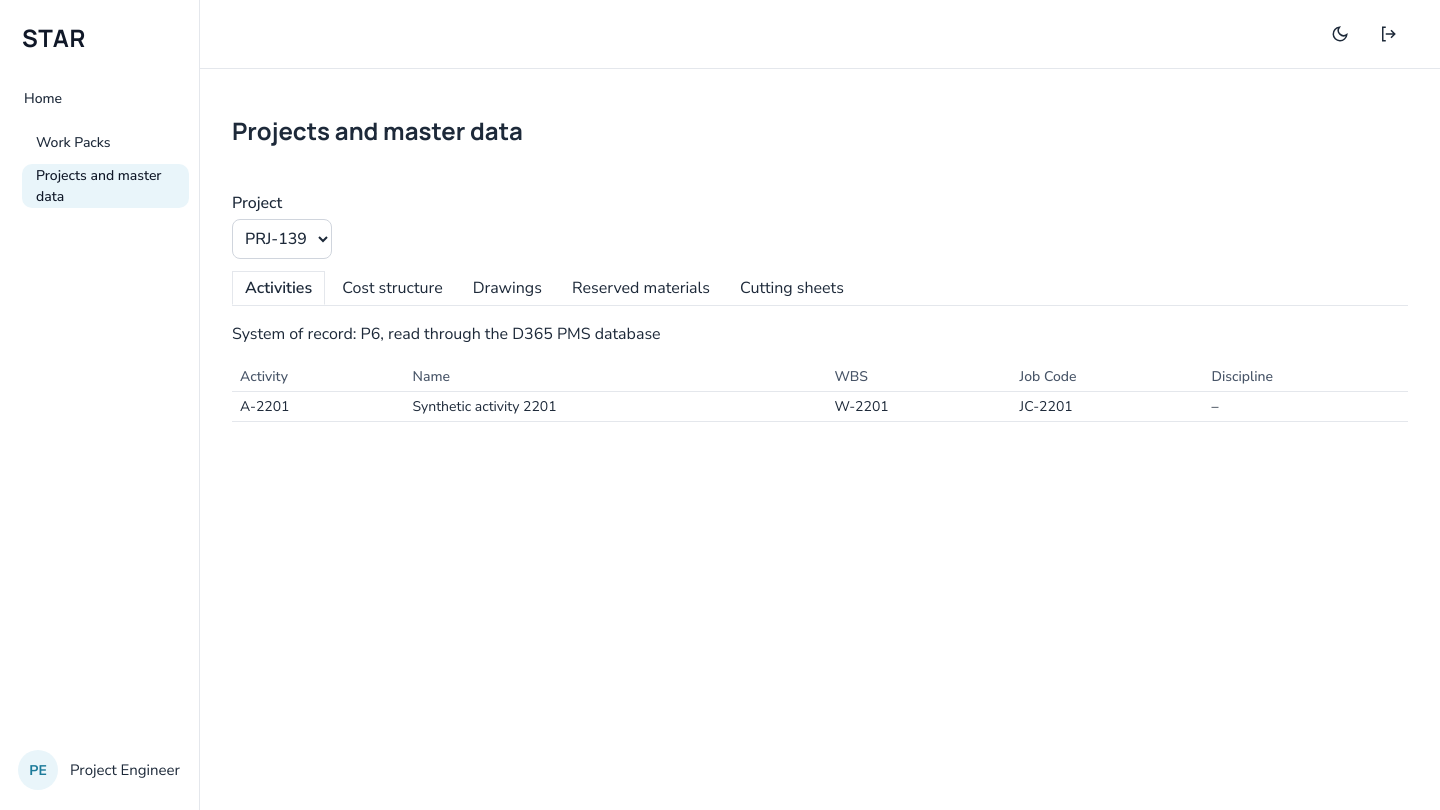
ProjectsPage › BPA77_unassignedProjectIsRefused
Select "PRJ-142" in the dropdown labelled "Project". click: (282, 239)
box: [232,219,332,259]
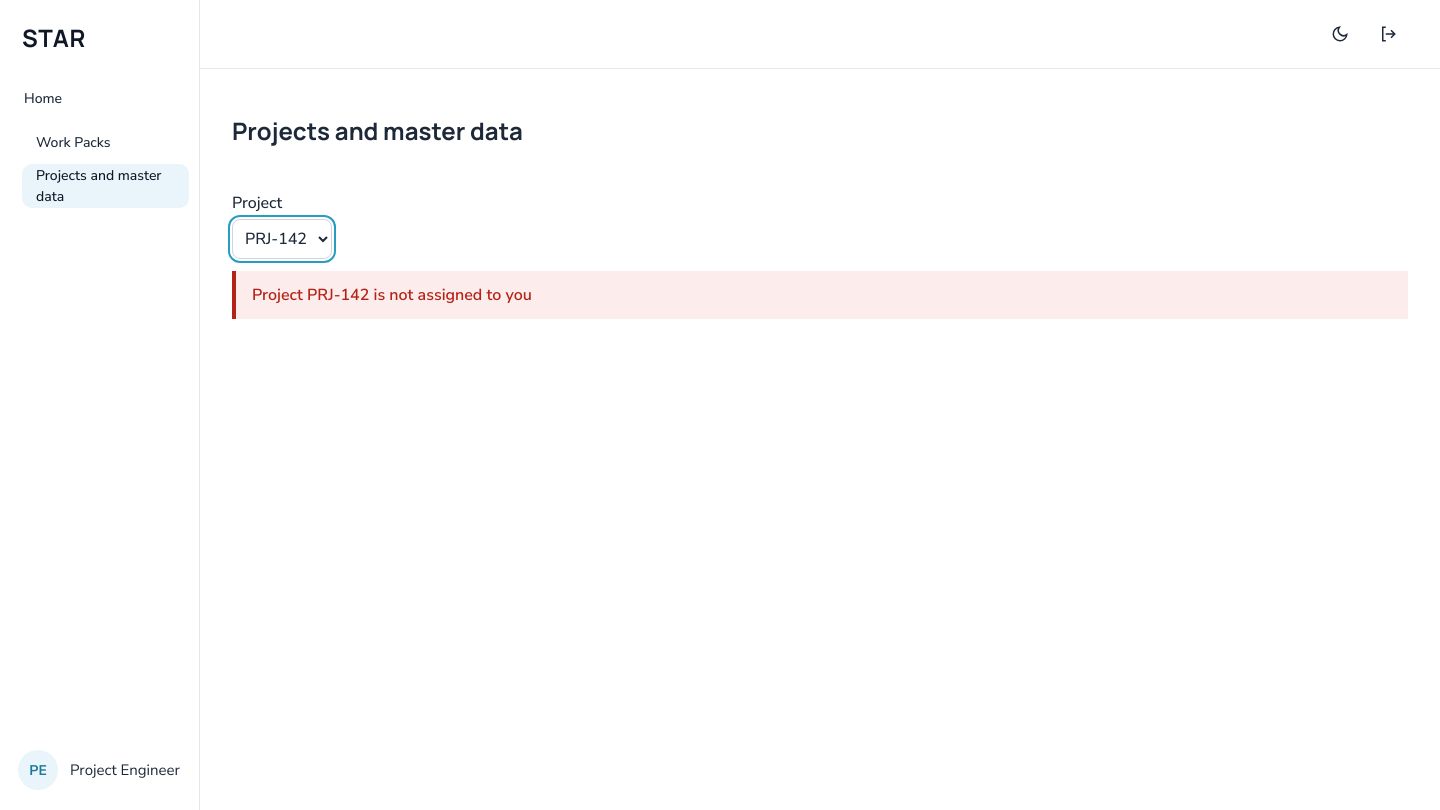
expect the message reads "Project PRJ-142 is not assigned to you": met, box [252,284,532,306]
expect the text "System of record" is gone: met
